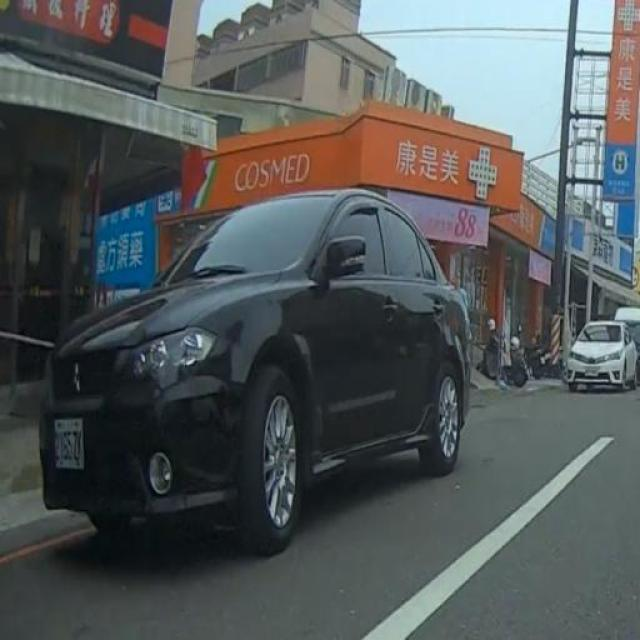Legalparking: (0, 126, 497, 581)
